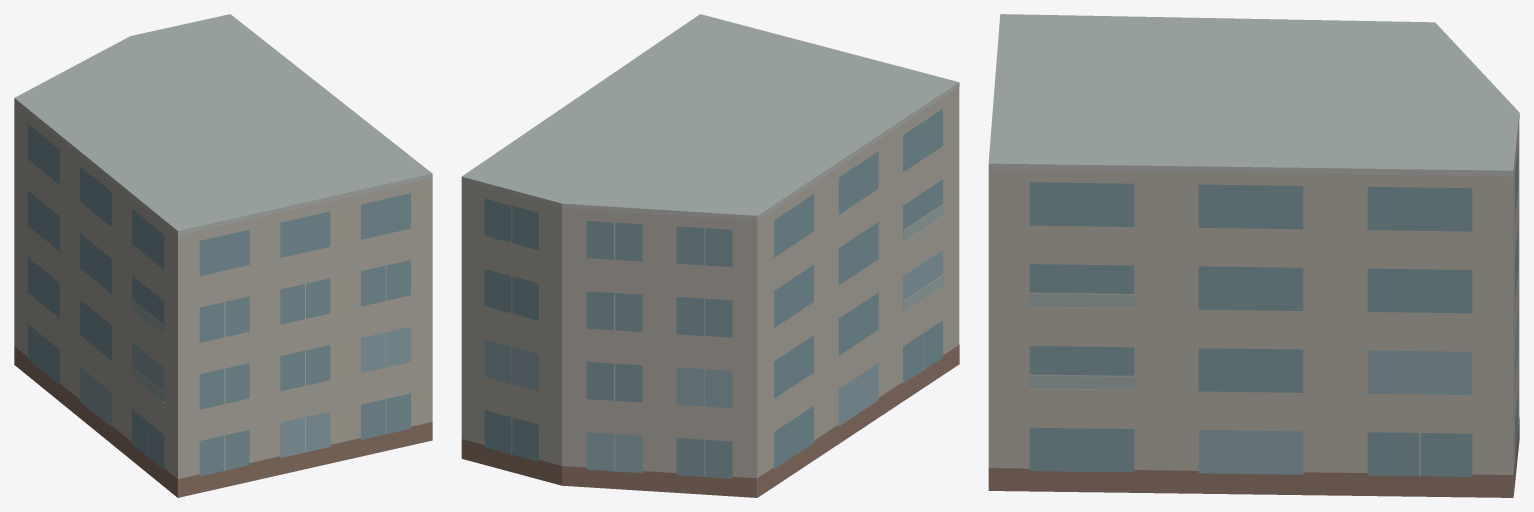
File: survey-upis-32598012.glb
3 renders of one model, left to right at view 1: azimuth 30°, elevation 25°; view 2: azimuth 150°, elevation 25°; view 3: azimuth 270°, elevation 25°, orthographic. The views are drawn at different scales.
Visible parts, largest first — view 1: survey-upis-32598012.tmp; view 2: survey-upis-32598012.tmp; view 3: survey-upis-32598012.tmp.
Part boxes in pixels (box(x1,y1,x2,y2)): survey-upis-32598012.tmp: box(14, 14, 432, 497); survey-upis-32598012.tmp: box(461, 14, 959, 497); survey-upis-32598012.tmp: box(988, 14, 1519, 497).
Bounding box in the file's own units: 14.48 × 14.1 × 20.74.
